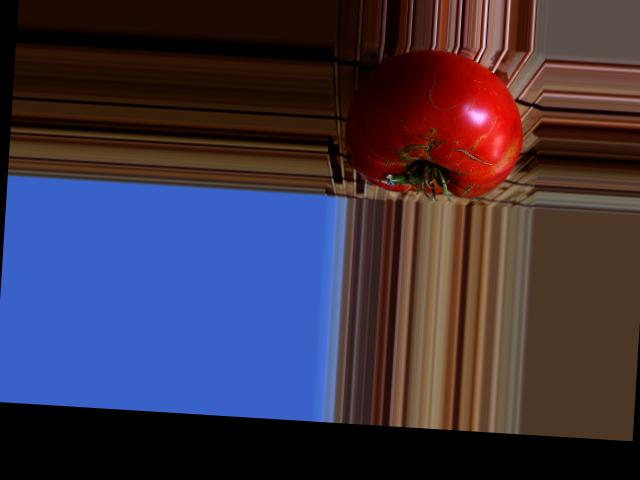tomato: (341, 47, 526, 200)
